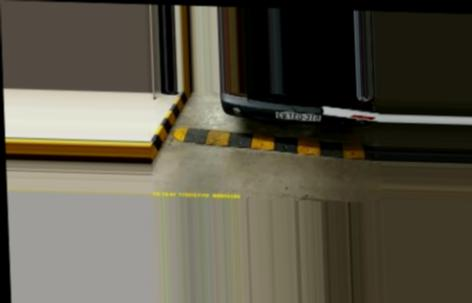License_Plate: (274, 111, 322, 122)
